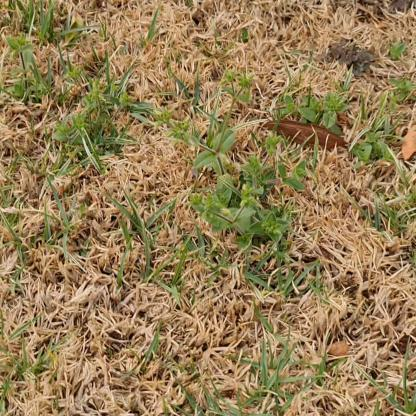Weeds: (156, 66, 308, 257), (9, 31, 133, 162), (280, 86, 386, 158)
